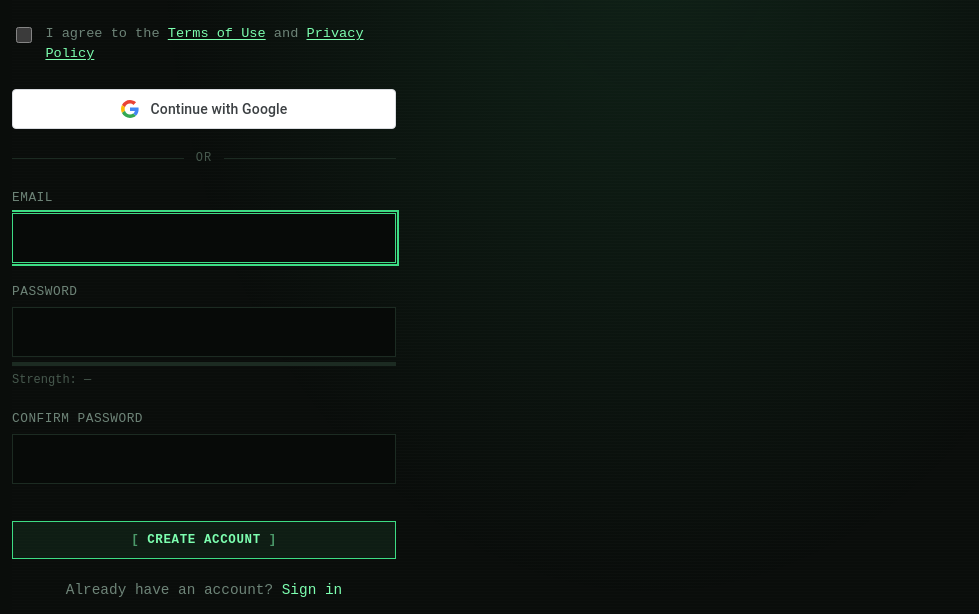
AuthForm validation › shows verify-email success state after signup instead of dashboard
The image size is (979, 614).
Step 1. Type "user@example.com" into the field labelled "Email" → (204, 238), box left=12, top=213, right=396, bottom=262
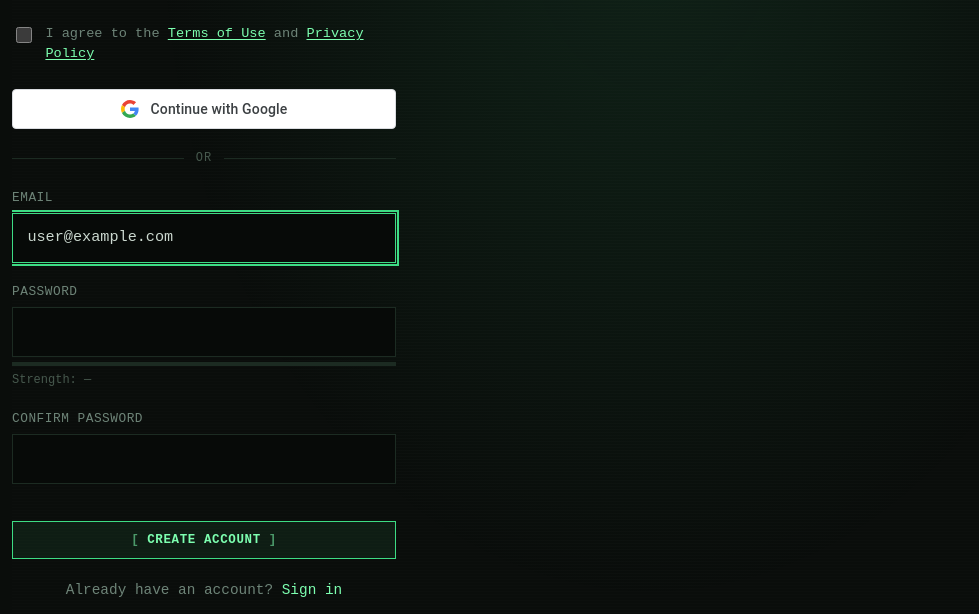
Step 2. Type "GoodPass1" into the password field labelled "Password" → (204, 332), box left=12, top=307, right=396, bottom=357
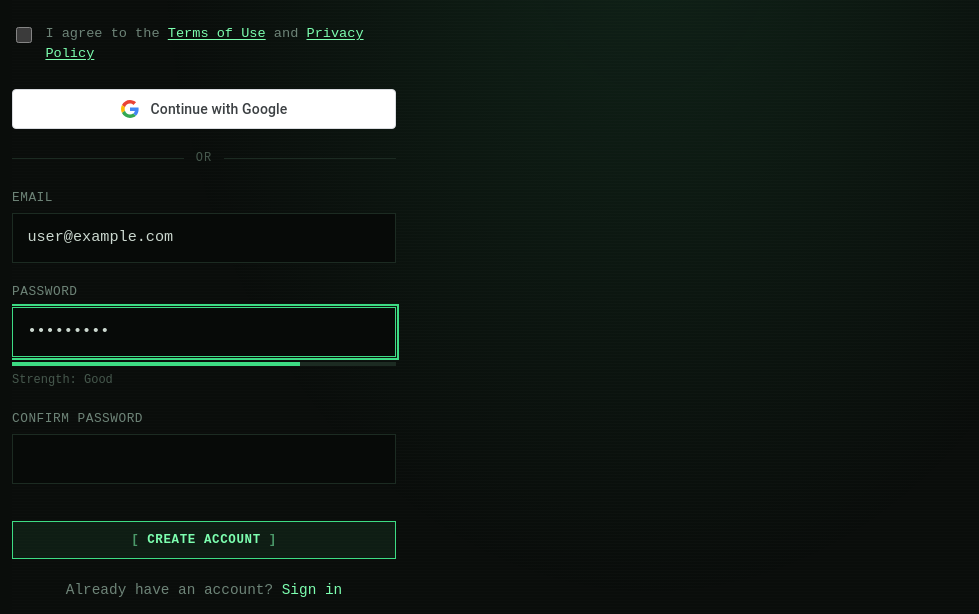
Step 3. Type "GoodPass1" into the password field labelled "Confirm password" → (204, 459), box left=12, top=434, right=396, bottom=484
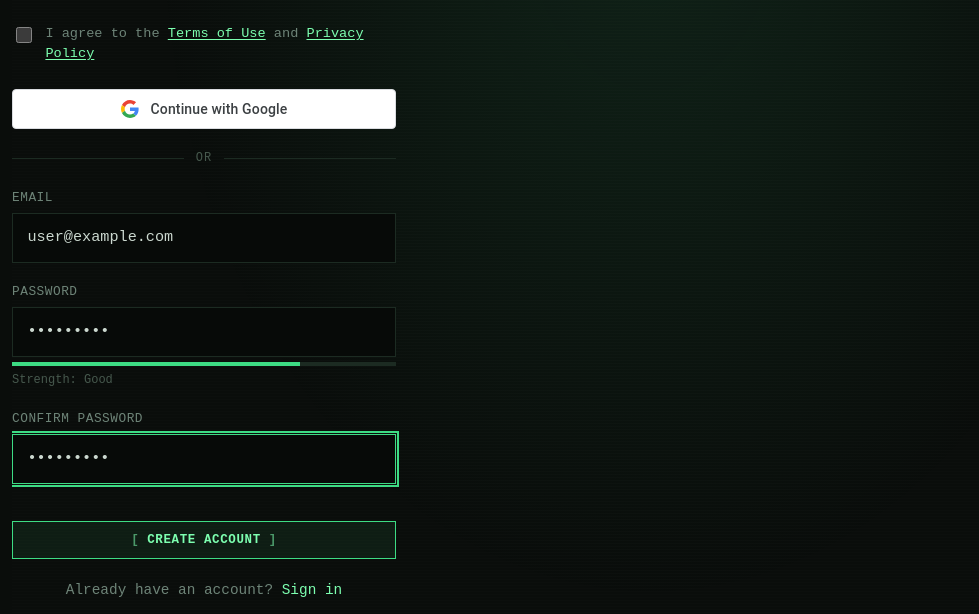
Step 4. Click the checkbox → (24, 35), box left=16, top=27, right=32, bottom=43
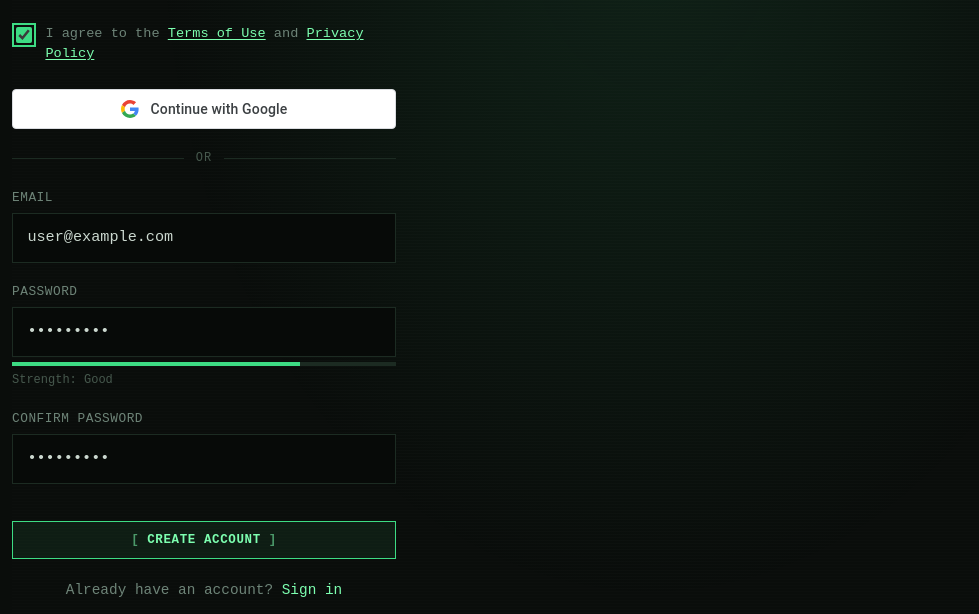
Step 5. Click the button "Create account" → (204, 540), box left=12, top=521, right=396, bottom=559
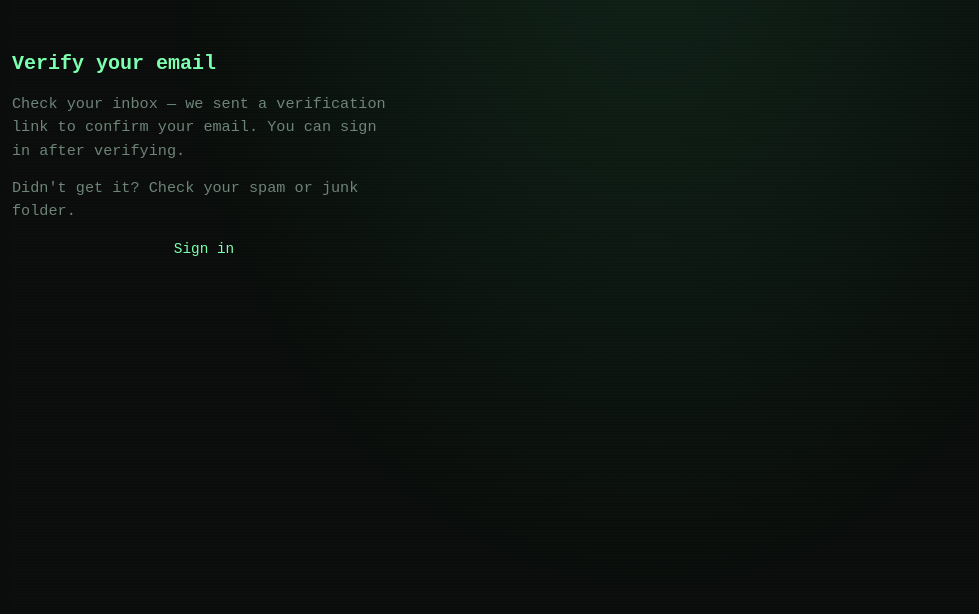
Expected: the heading "Verify your email" is shown, left=12, top=52, right=216, bottom=75
